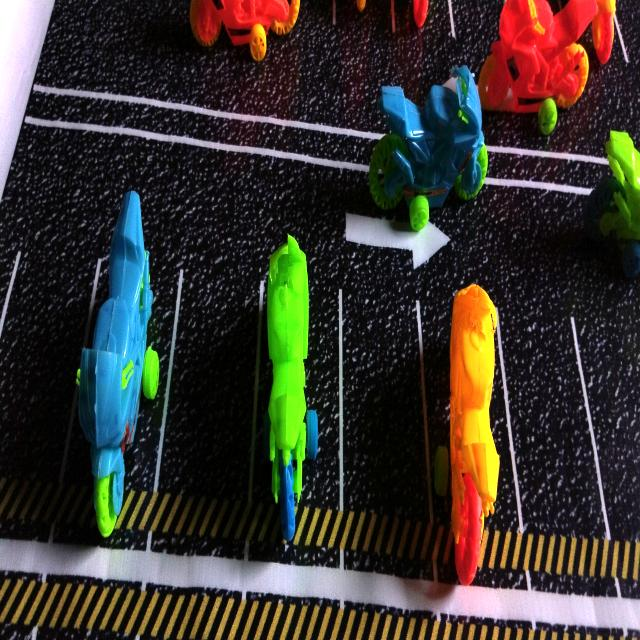bikes: (369, 73, 487, 239), (478, 0, 598, 141)
occupied: (61, 200, 178, 547), (421, 291, 519, 592), (249, 244, 340, 552)
slots: (498, 291, 606, 543), (160, 279, 257, 502), (343, 285, 425, 518), (0, 277, 90, 473), (573, 291, 640, 544)
